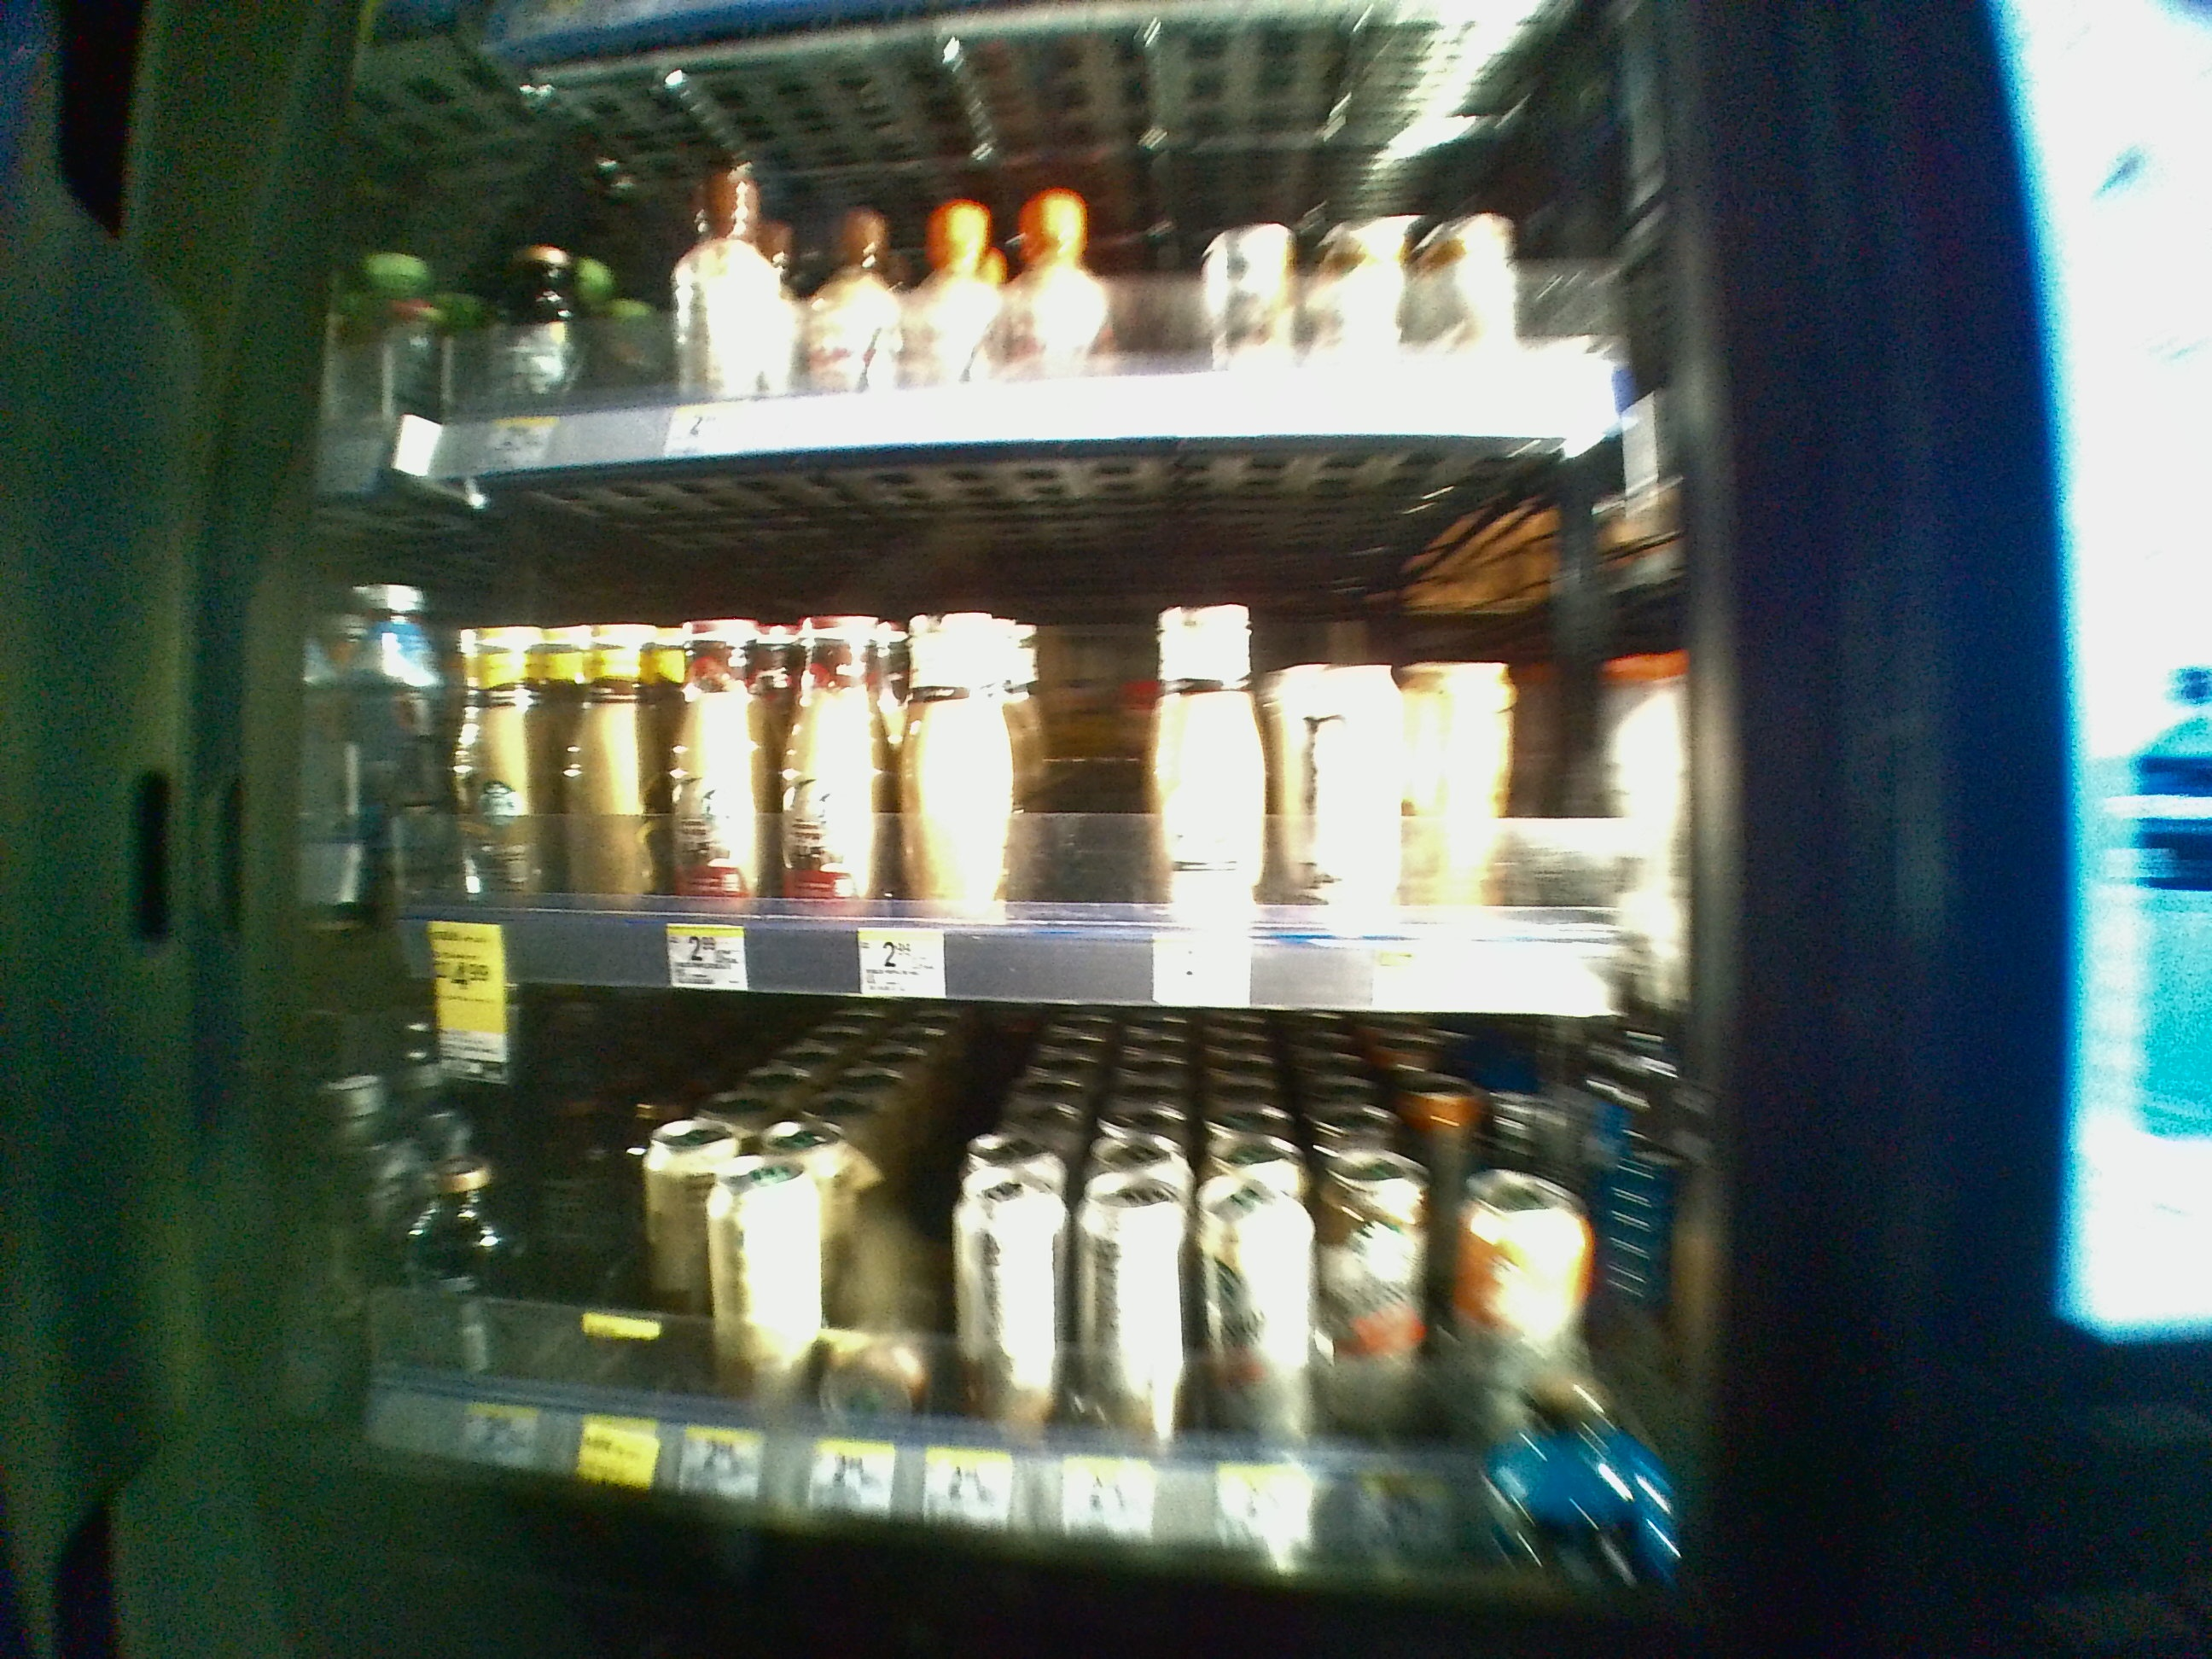shelf: (300, 448, 1730, 1019)
